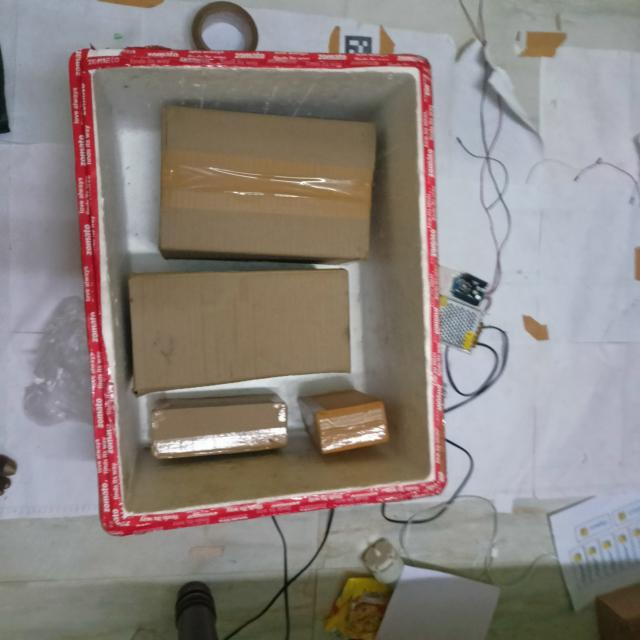box: (156, 101, 382, 276), (132, 256, 350, 392)
